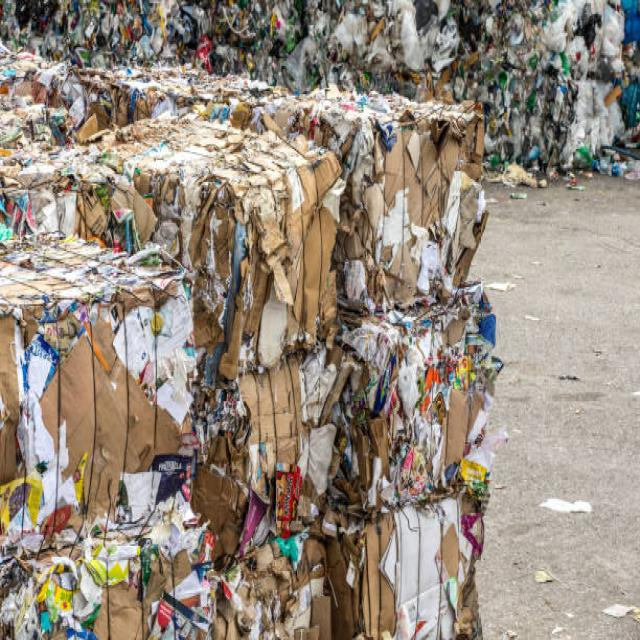cardboard: (3, 74, 505, 613)
